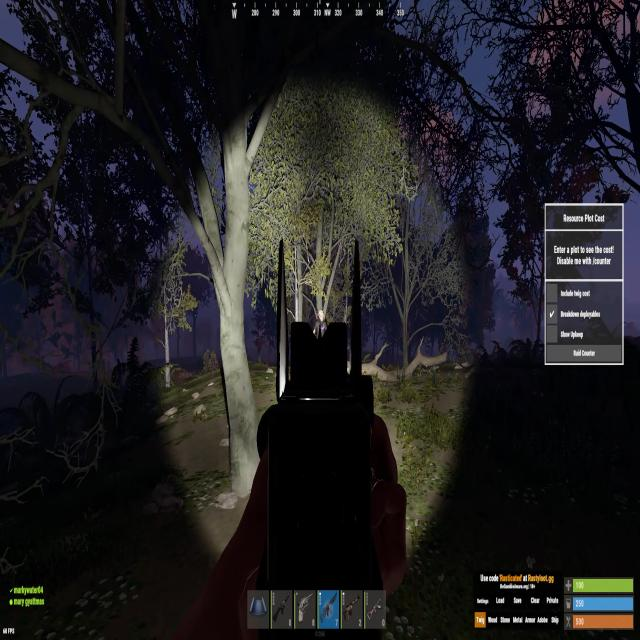Player: (312, 310, 328, 340)
